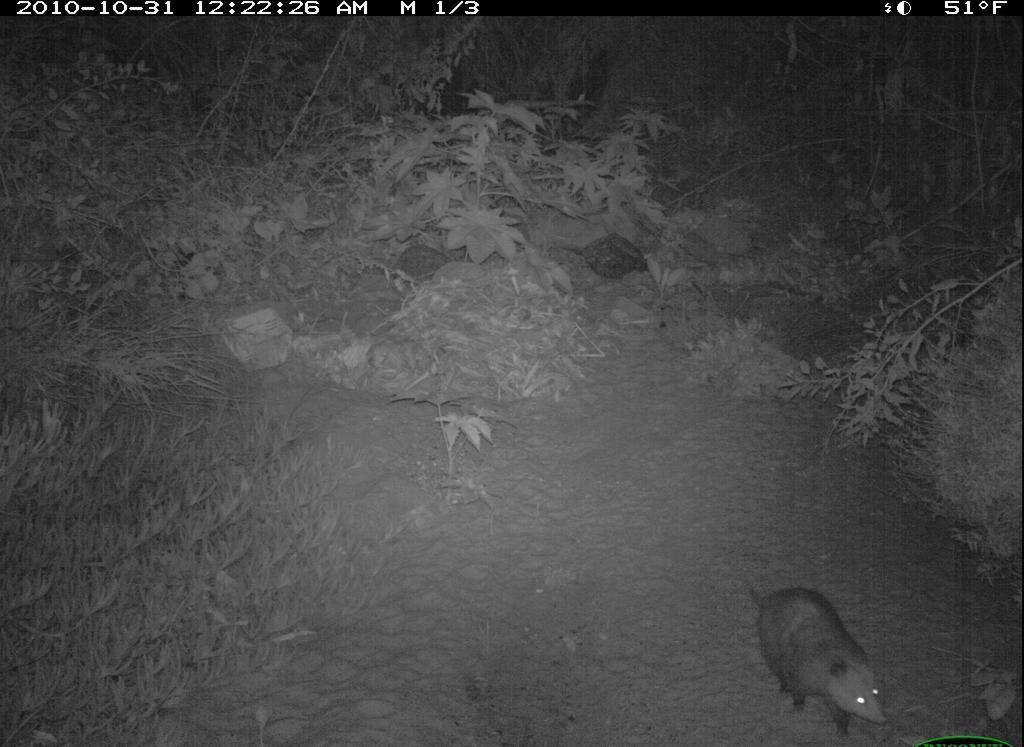opossum: (739, 570, 891, 739)
